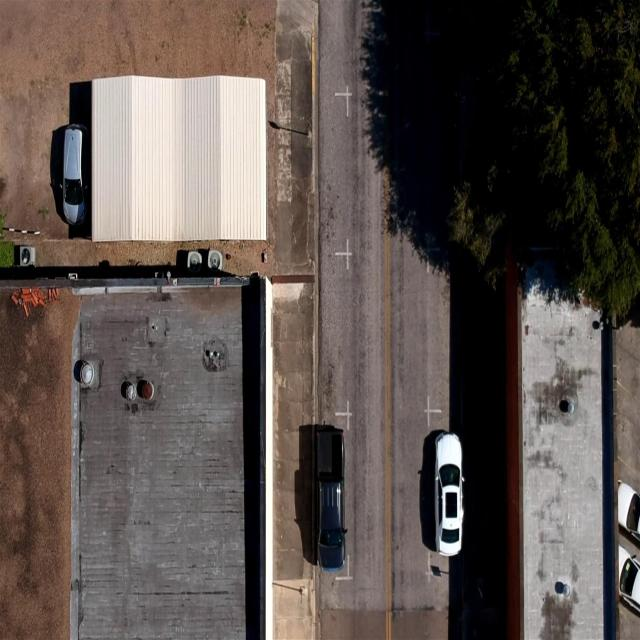Car: (314, 415, 350, 570), (430, 419, 465, 562), (59, 122, 88, 229)
